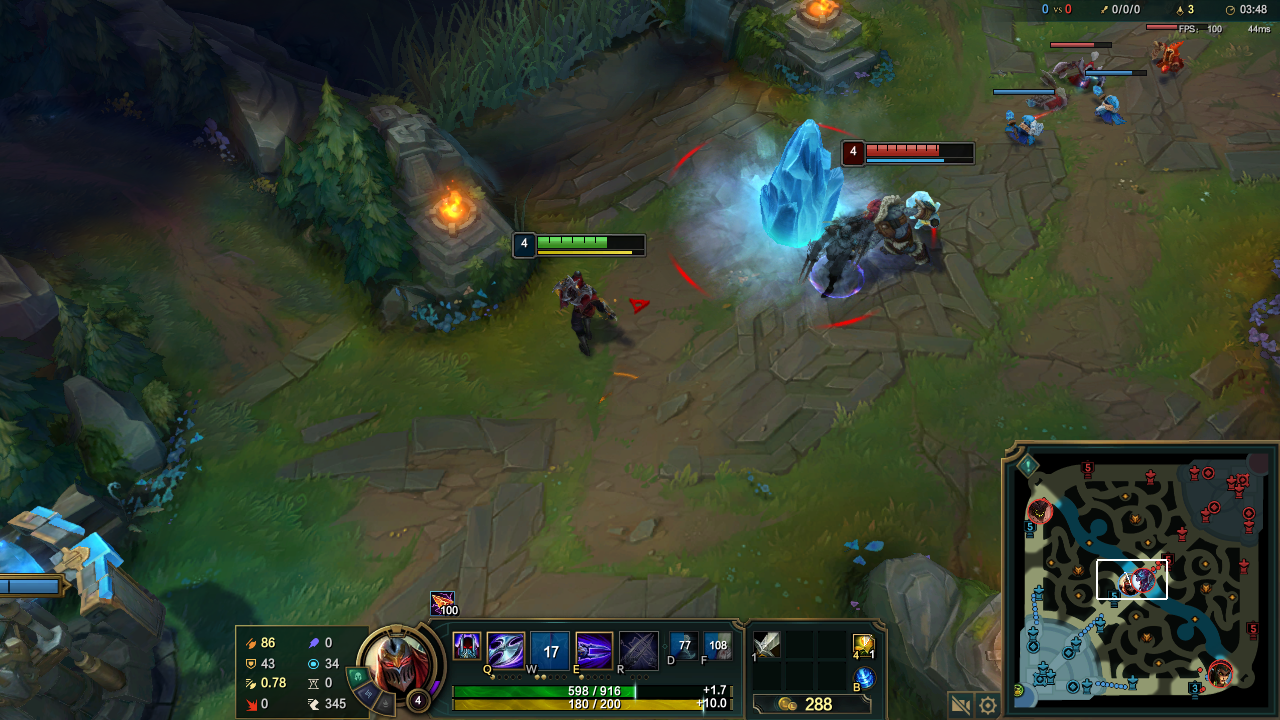DFYX: (865, 143, 974, 157)
